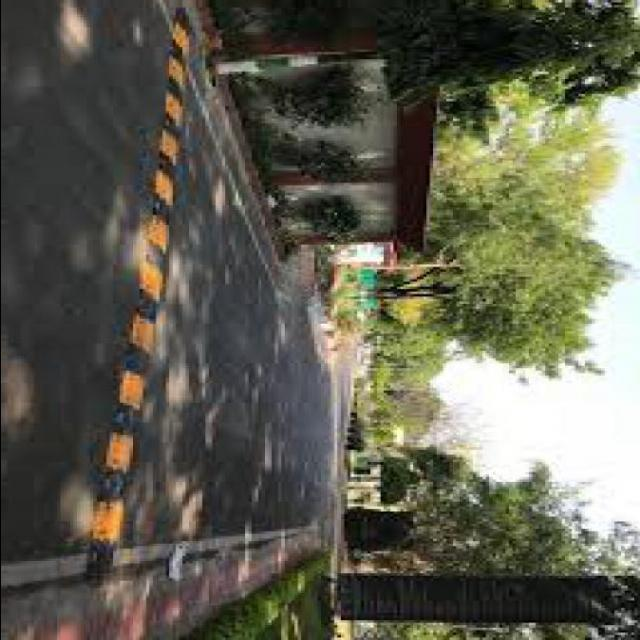speedbreaker: (82, 31, 198, 548)
